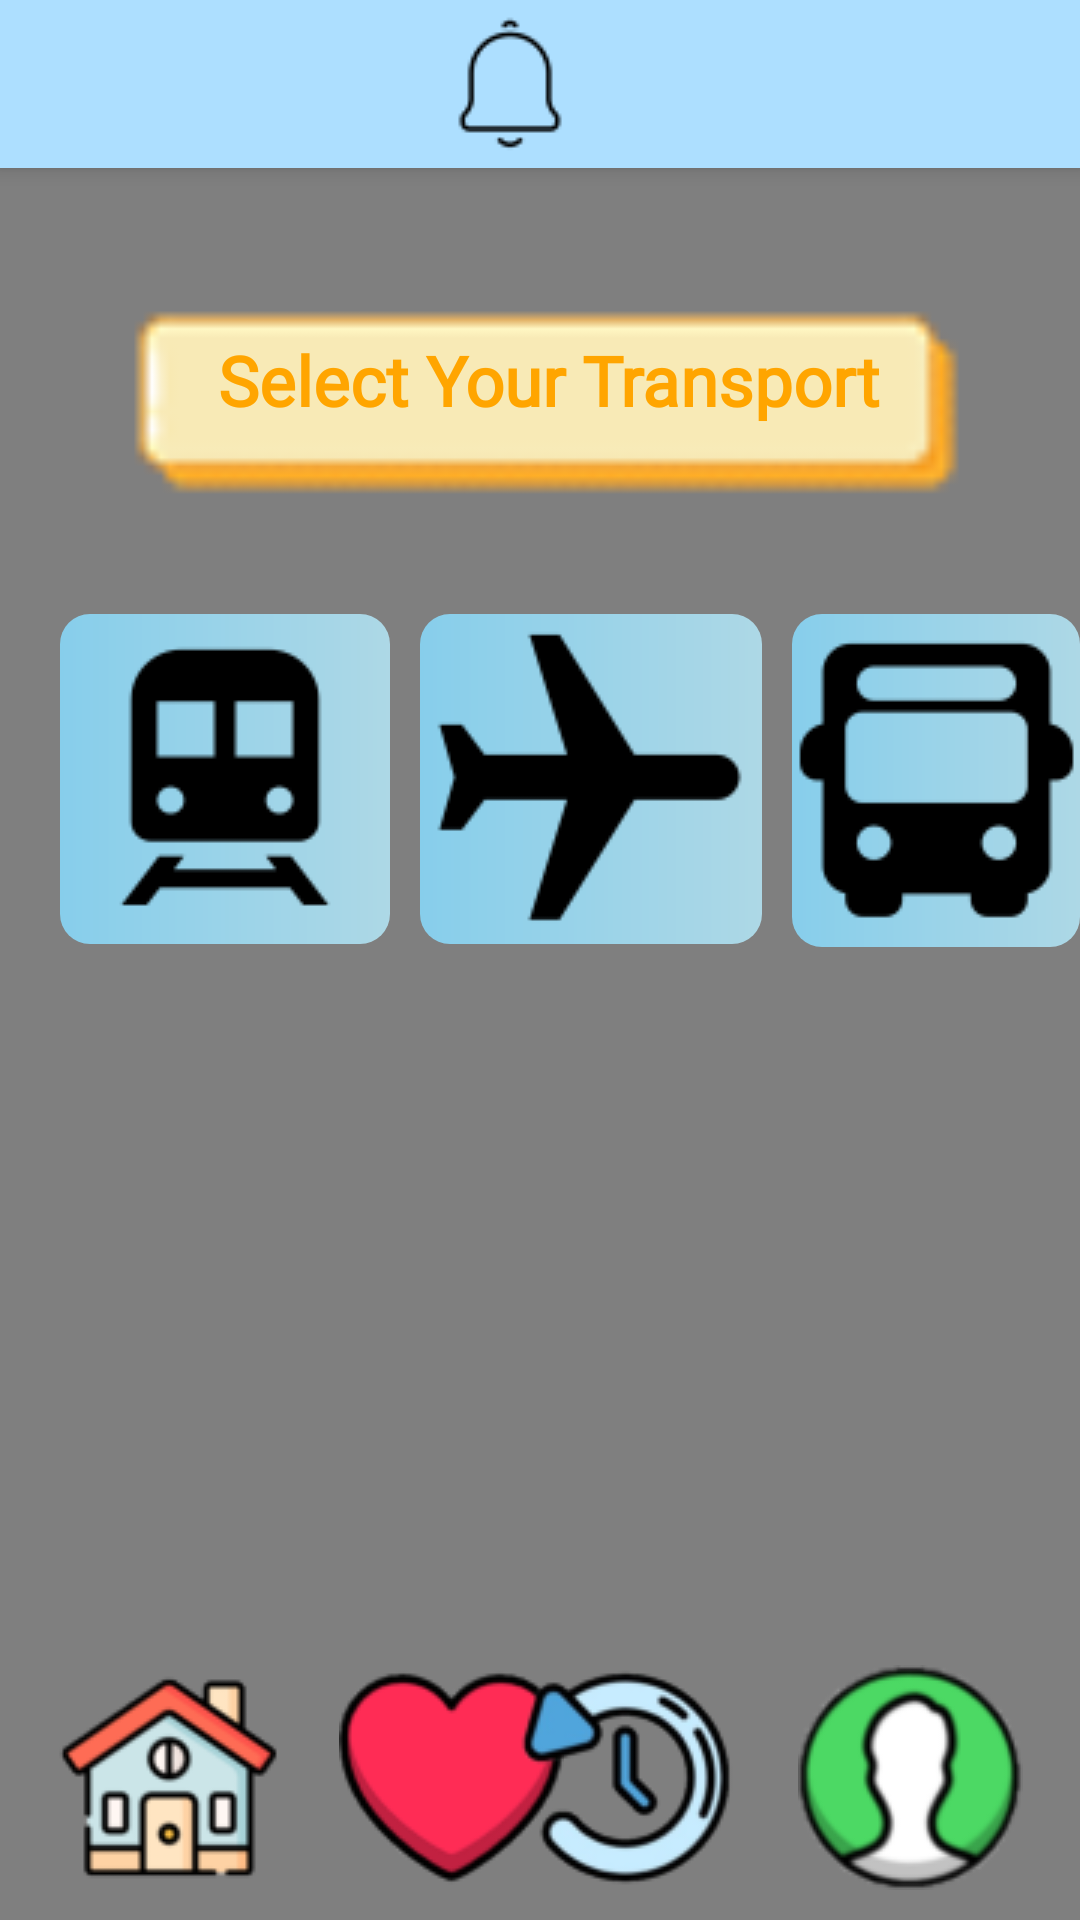

Where icons sit on this 1080 × 1920 app screen, as (x1, y1, x2, y2):
bus: (792, 614, 1080, 947)
heart: (339, 1673, 564, 1882)
history: (516, 1673, 730, 1882)
home: (62, 1679, 277, 1876)
notification: (458, 18, 562, 148)
plane: (420, 614, 762, 944)
profile: (798, 1667, 1021, 1888)
train: (60, 614, 390, 944)
